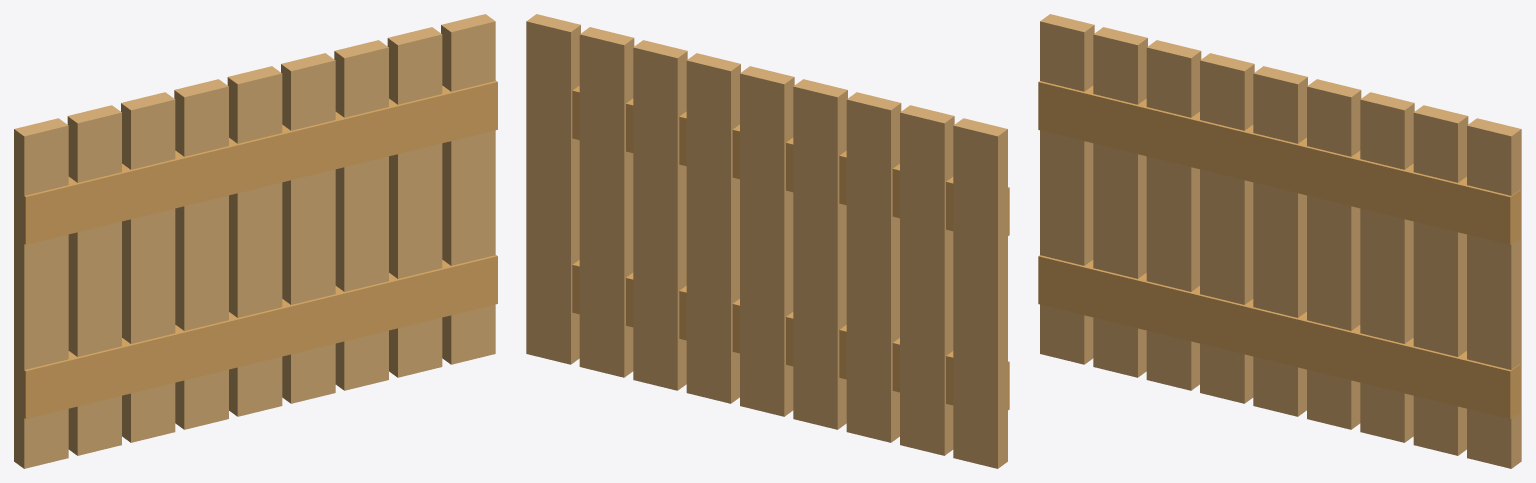
File: Fence.fbx
3 views of the same model, side by side, from view 1: azimuth 30°, elevation 25°; view 2: azimuth 150°, elevation 25°; view 3: azimuth 330°, elevation 25° (orthographic).
Visible parts, largest first — view 1: Fence; view 2: Fence; view 3: Fence.
Boxes of the visible parts, x1,y1,x2,y2 form: Fence: [14, 14, 497, 468]; Fence: [526, 14, 1009, 468]; Fence: [1038, 14, 1521, 468].
Size of the model in its own units: 267 by 180 by 11.45.
